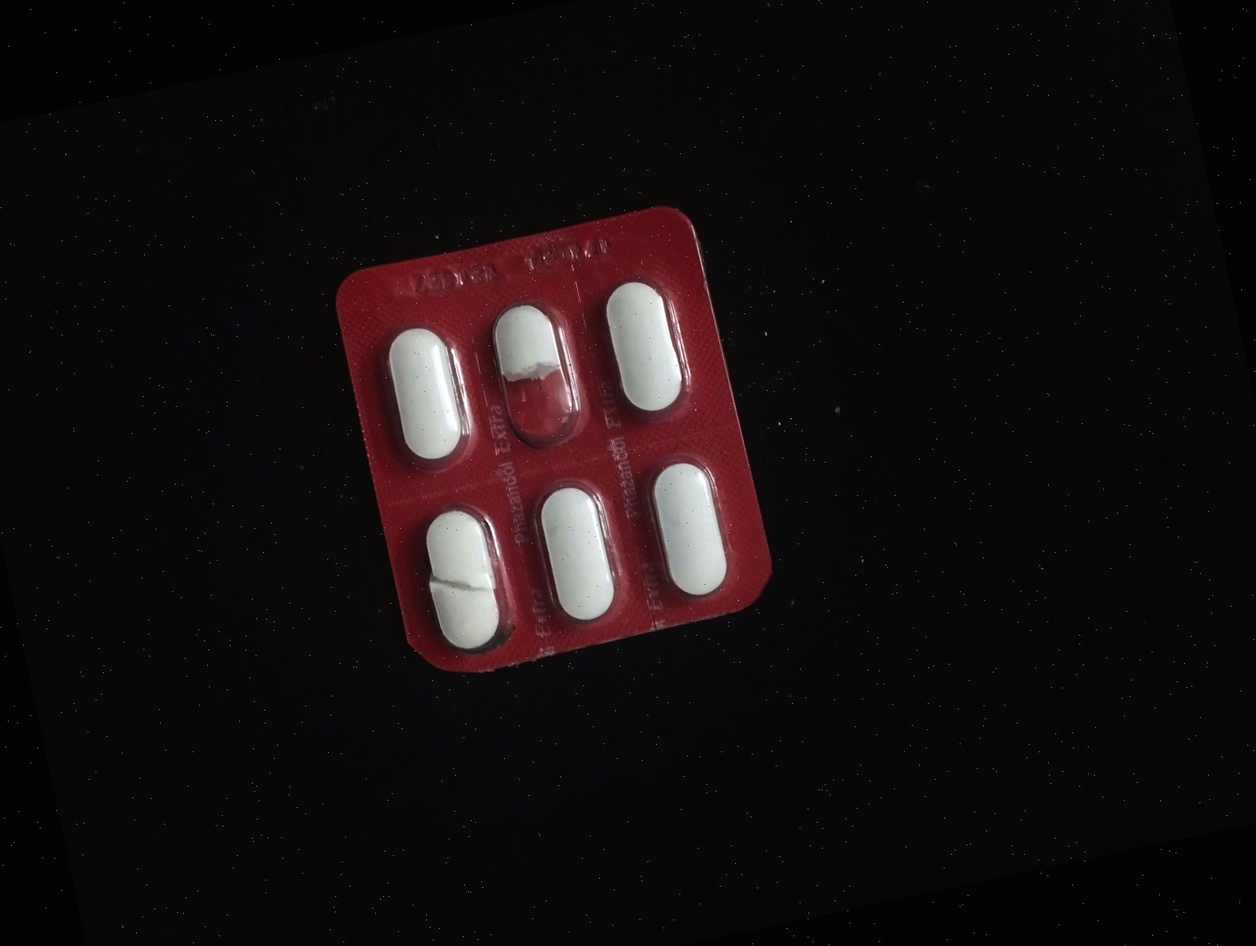Full: (412, 498, 519, 660), (377, 316, 477, 468), (527, 477, 627, 628), (599, 272, 691, 423), (647, 455, 737, 596)
Partial: (480, 291, 590, 452)
